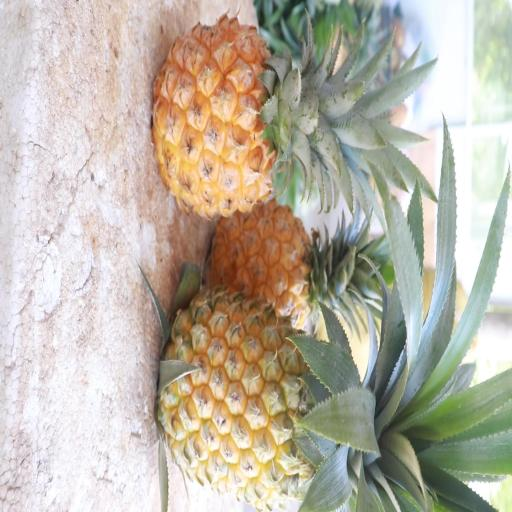Pineapple - v8 v1: (155, 286, 387, 511), (153, 12, 356, 218), (207, 195, 380, 333)
